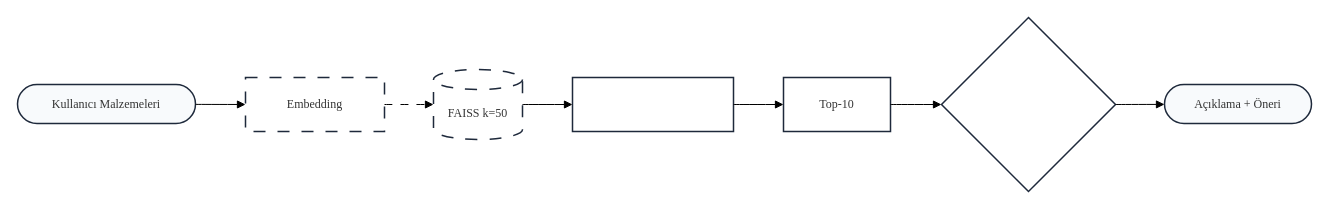
Image size: 1330x210. Some labels were removed from this diagram. Here are the shapes that lost their labels. From the top down, the centre of each, then its label:
At (x=652, y=104): "Cross-Encoder".
At (x=1028, y=104): "Gemini 2.5 Flash".
